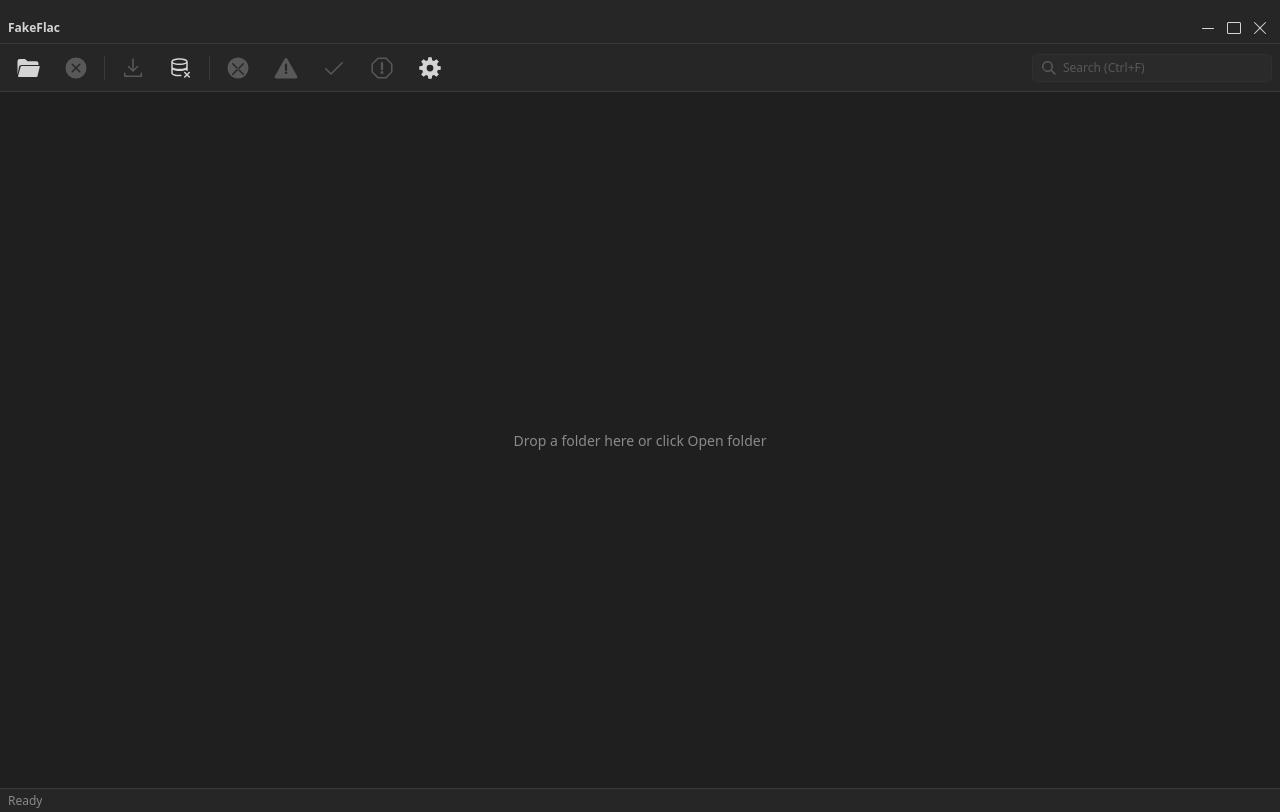
Scenario: Albums panel: states › shows the header "Albums" and no items when cancelled before any track
Expected: the element named "Main toolbar" is shown, 0,44 -> 1279,92
Click the button named "Open folder". click: (28, 68)
box: 8,48 -> 48,88
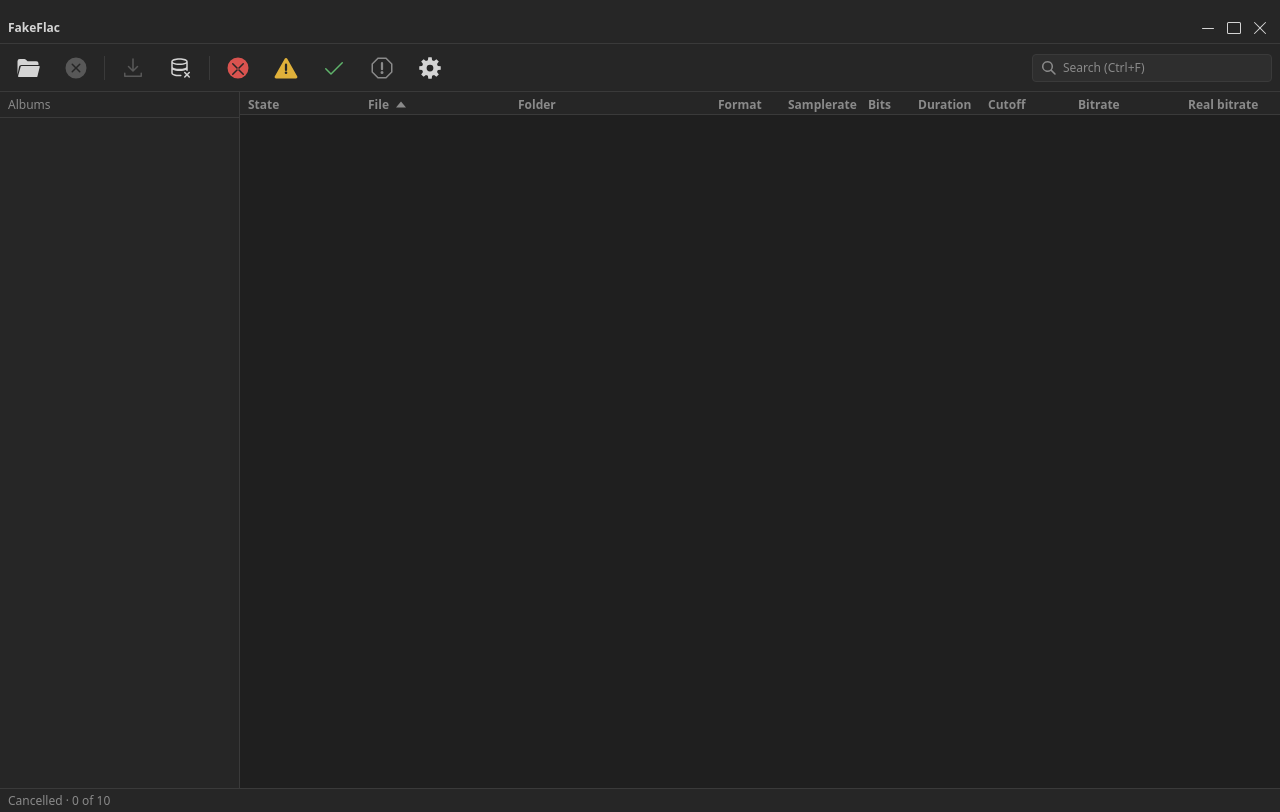
Now the text "Albums" is shown, box 0,92 -> 239,118
